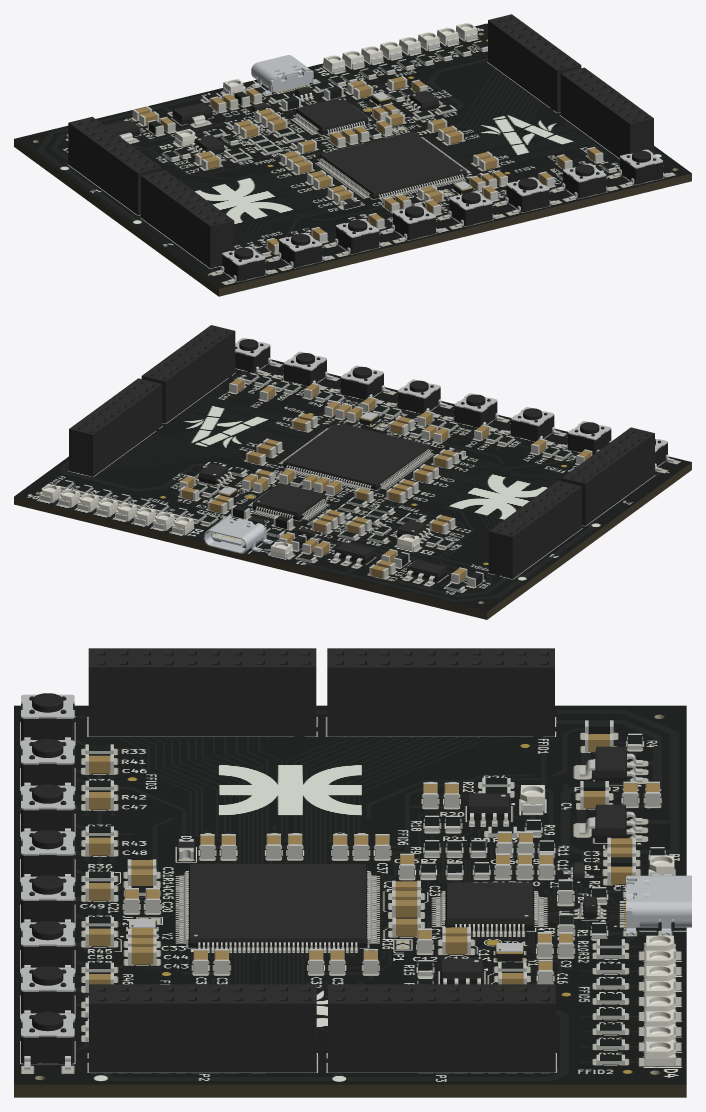
File: azukar-web.glb
The picture shows the model from 3 angles, top to bottom: view 1: azimuth 30°, elevation 25°; view 2: azimuth 150°, elevation 25°; view 3: azimuth 270°, elevation 25°; orthographic projection. The views are drawn at different scales.
Bounding box in the file's own units: 0.1 × 0.0116 × 0.0756.
20 materials, 2 textured.
